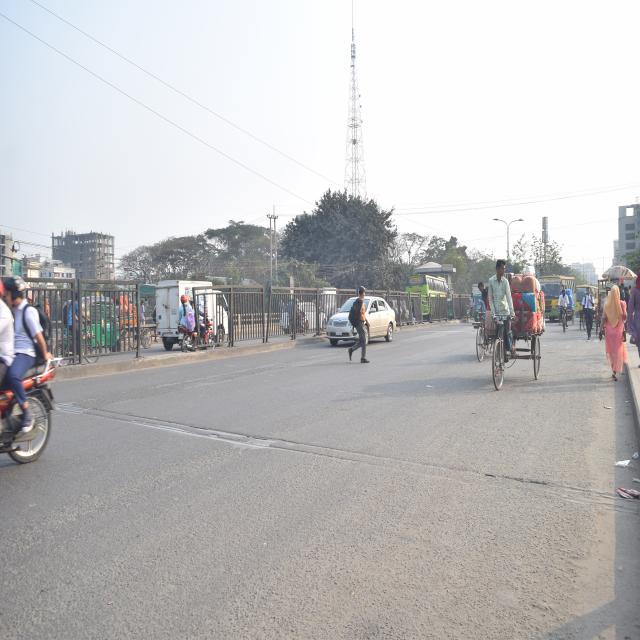bus: (540, 273, 576, 322), (574, 281, 593, 317)
car: (318, 291, 400, 351)
motorbike: (0, 320, 83, 478)
